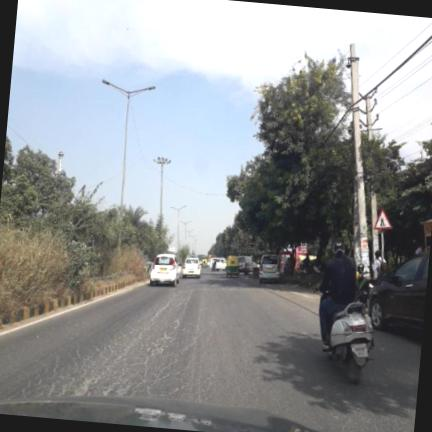Road: (0, 269, 421, 431)
